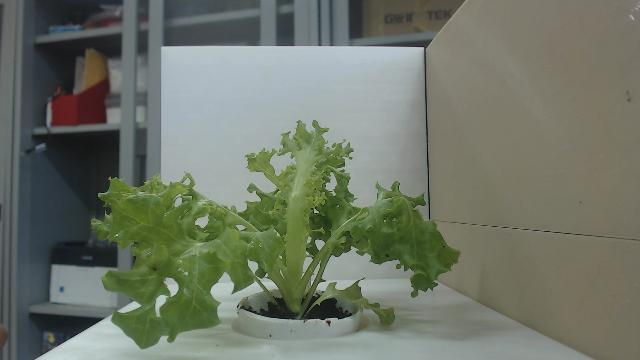Harvest Stage: (90, 118, 462, 351)
